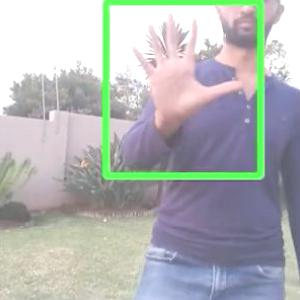follow_hand: (128, 5, 246, 123)
